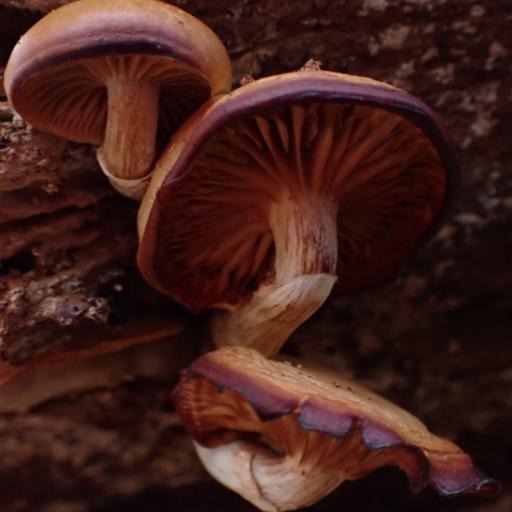mushroom: (159, 315, 482, 496), (7, 2, 227, 186)
